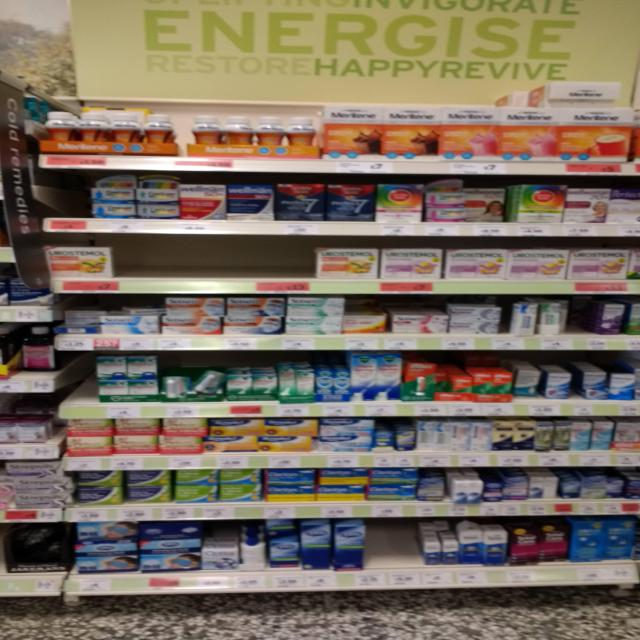empty_space: (126, 252, 298, 276), (375, 520, 417, 560), (51, 181, 87, 212), (573, 298, 593, 334)
